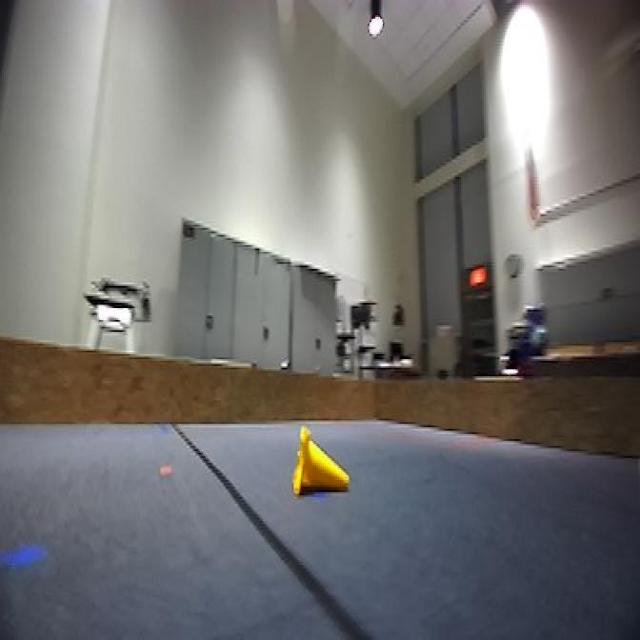frc_cone: (290, 427, 348, 507)
